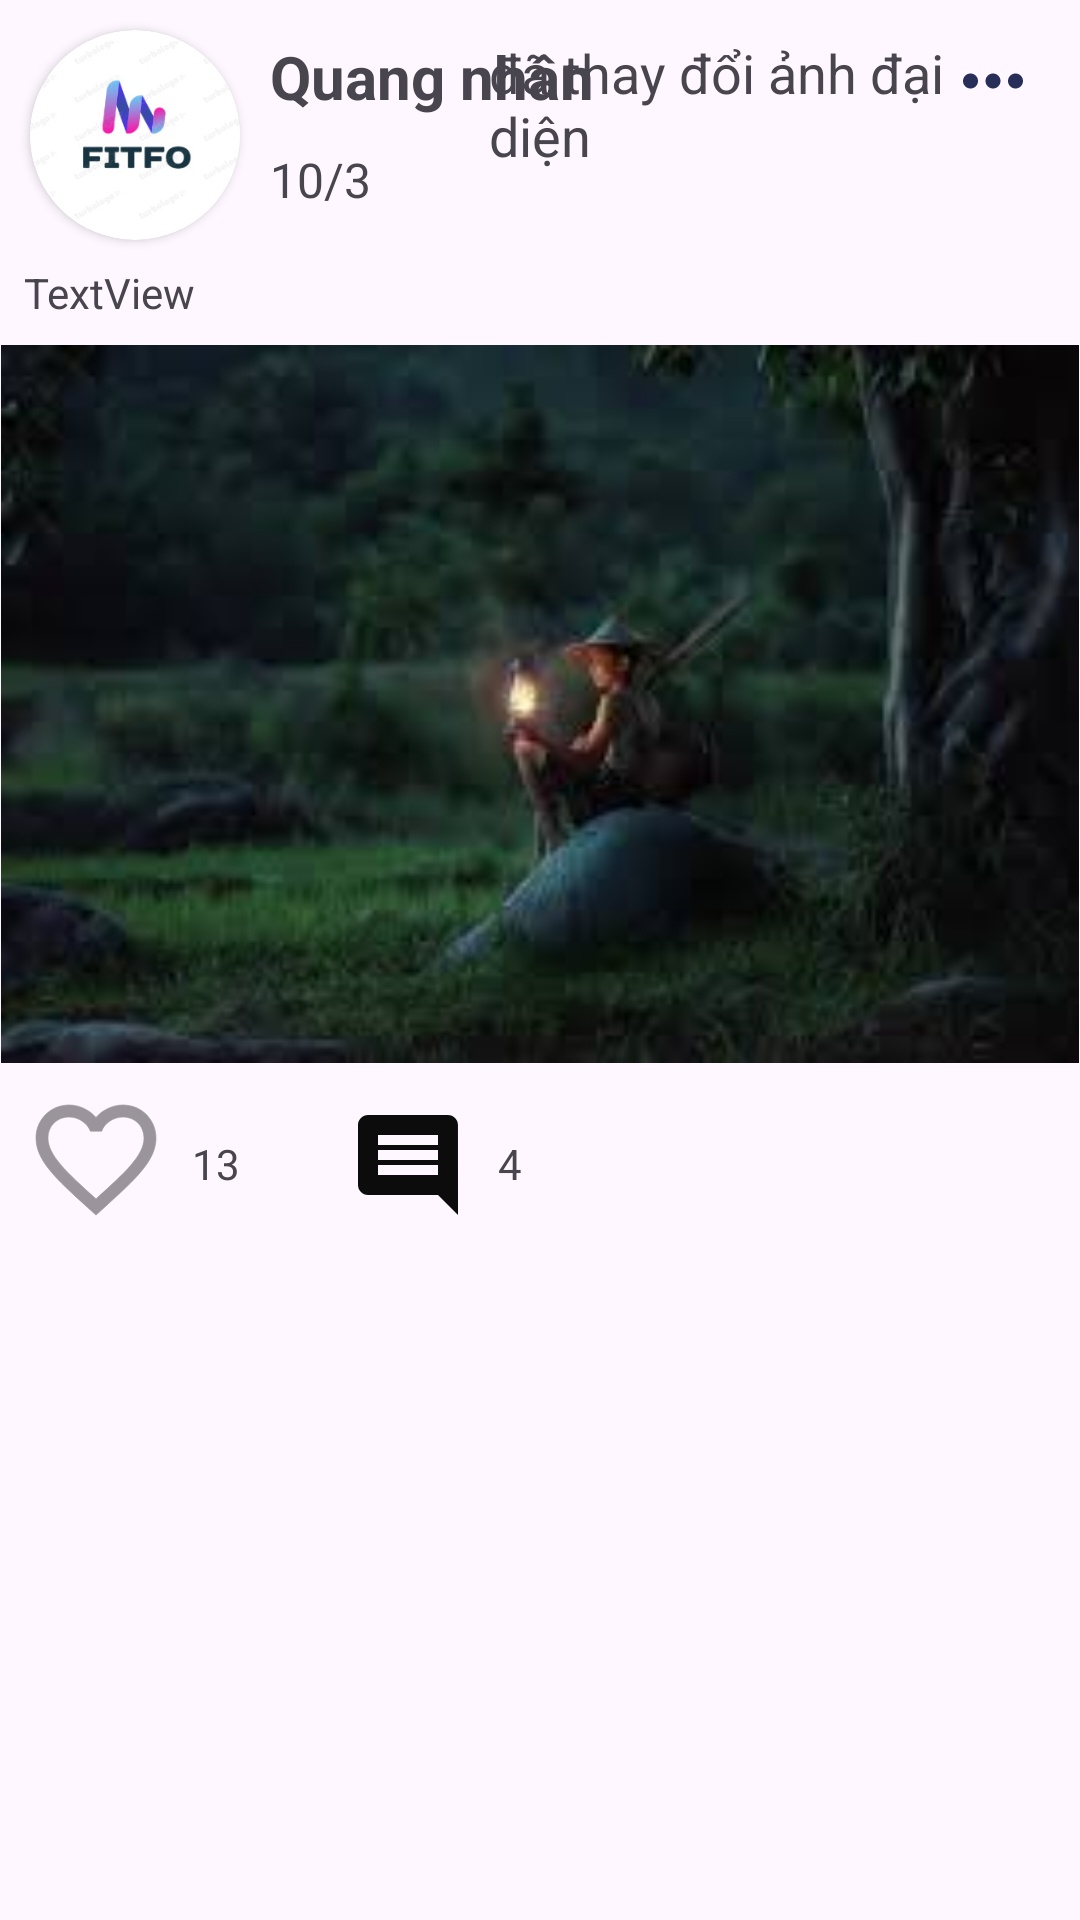

Named icons in this screenshot (1080*1920) and their centers, (x=x, y=y):
comment: (x=408, y=1165)
heart: (x=96, y=1159)
option: (x=993, y=81)
